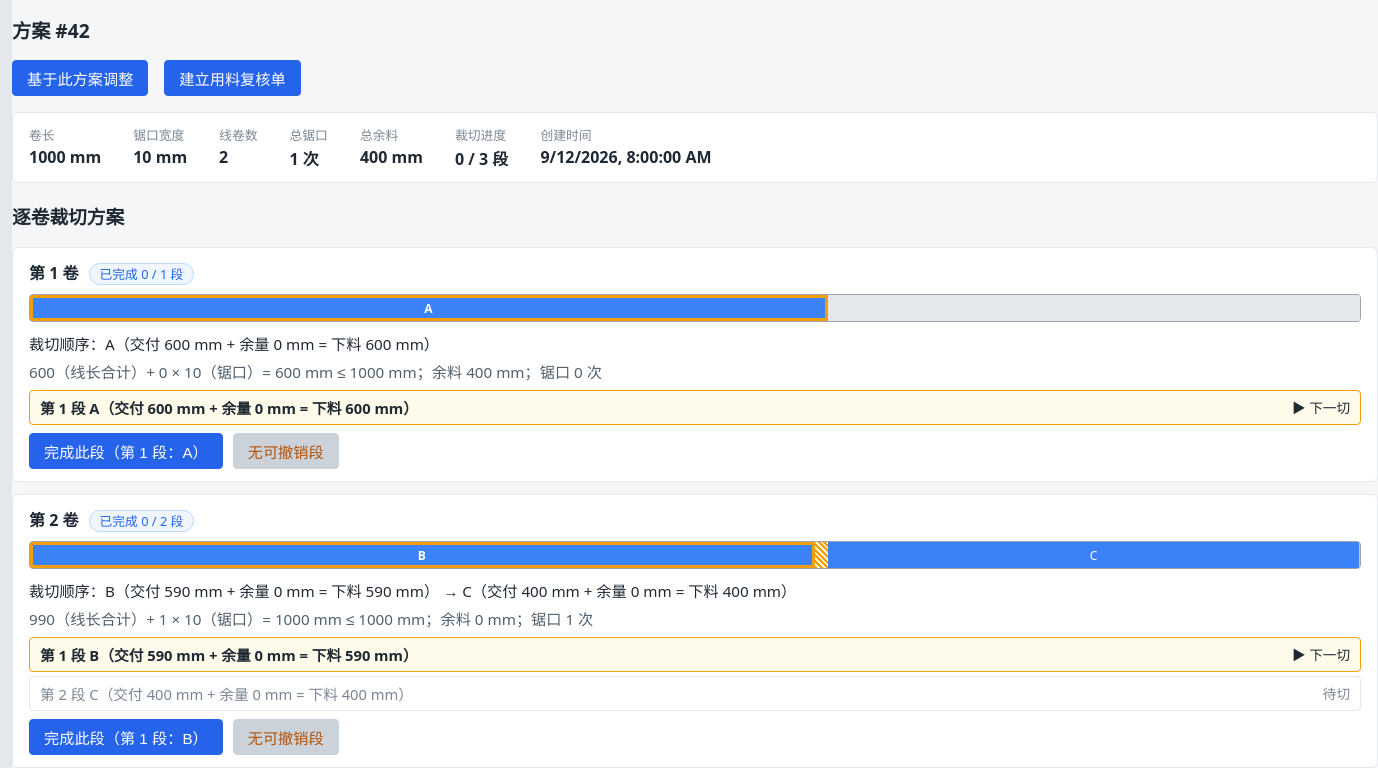
Test: PlanDetailPage progress flow › prevents duplicate actions while a request is in flight
Click the button with test id "complete-roll-2" at (126, 737), box 29,719 -> 223,755
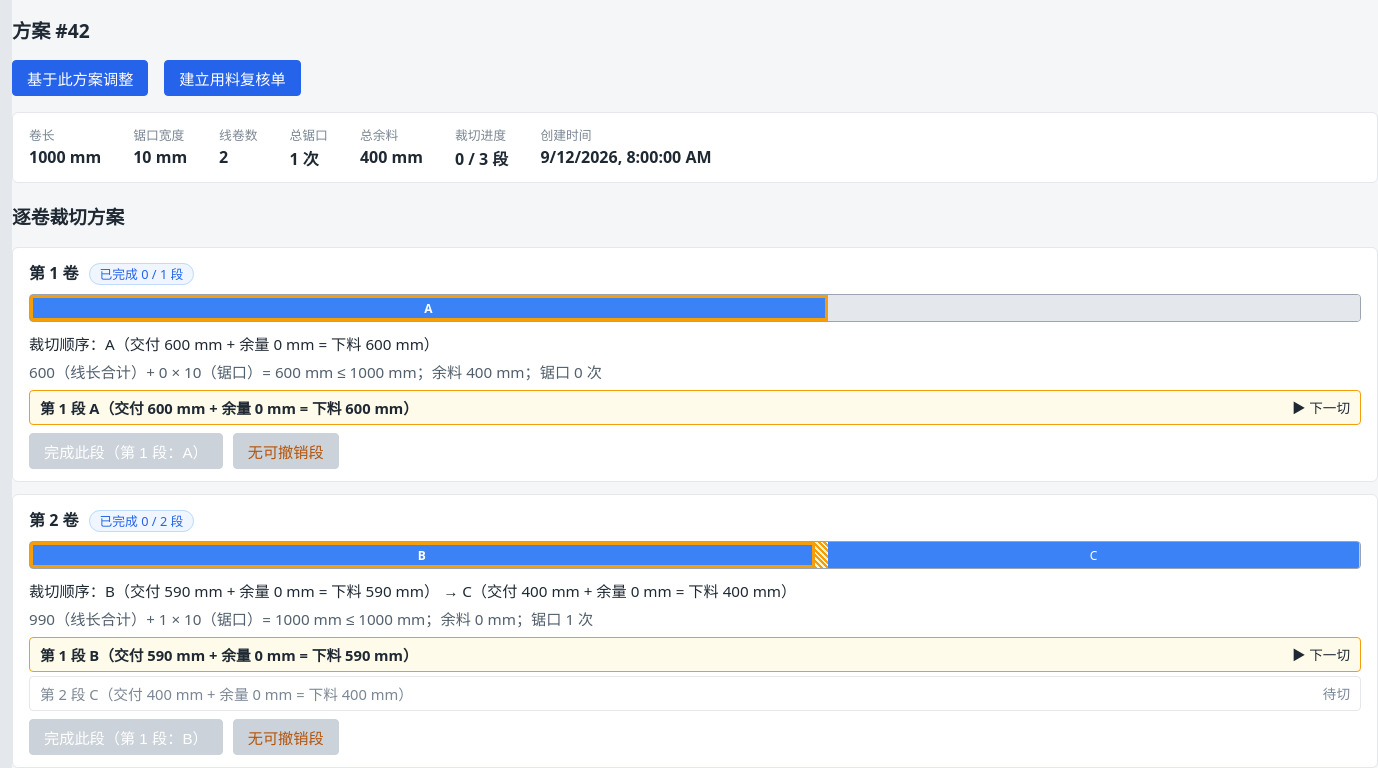
Expected: the button with test id "undo-roll-2" is disabled, 233,719 -> 339,755
Result: the button with test id "complete-roll-2" is disabled at 29,719 -> 223,755
Result: the button with test id "complete-roll-1" is disabled
Click the button with test id "complete-roll-1" at (126, 451), box 29,433 -> 223,469
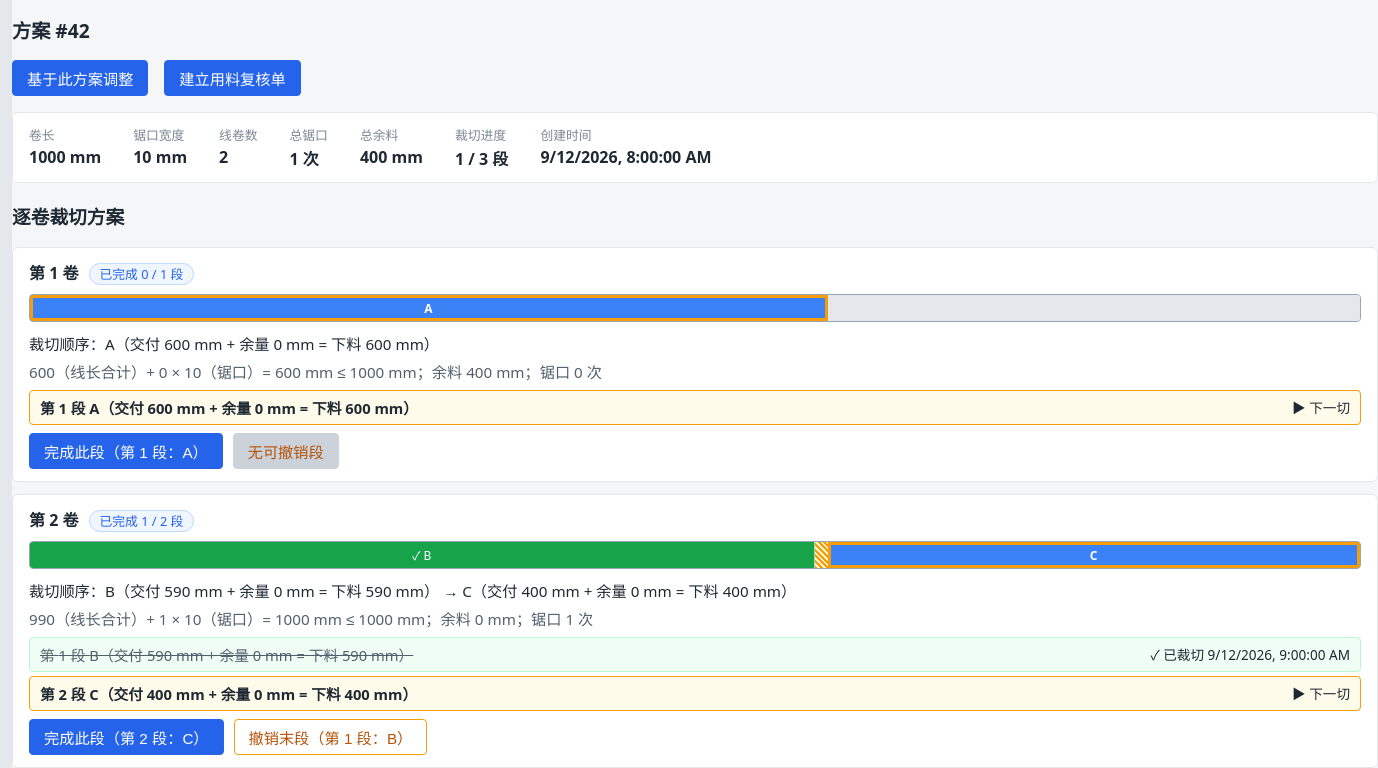
Result: the button with test id "complete-roll-2" is enabled at 29,719 -> 224,755
